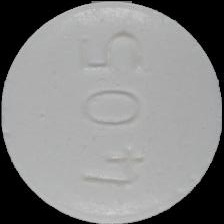53808-0868: (0, 0, 224, 224)
